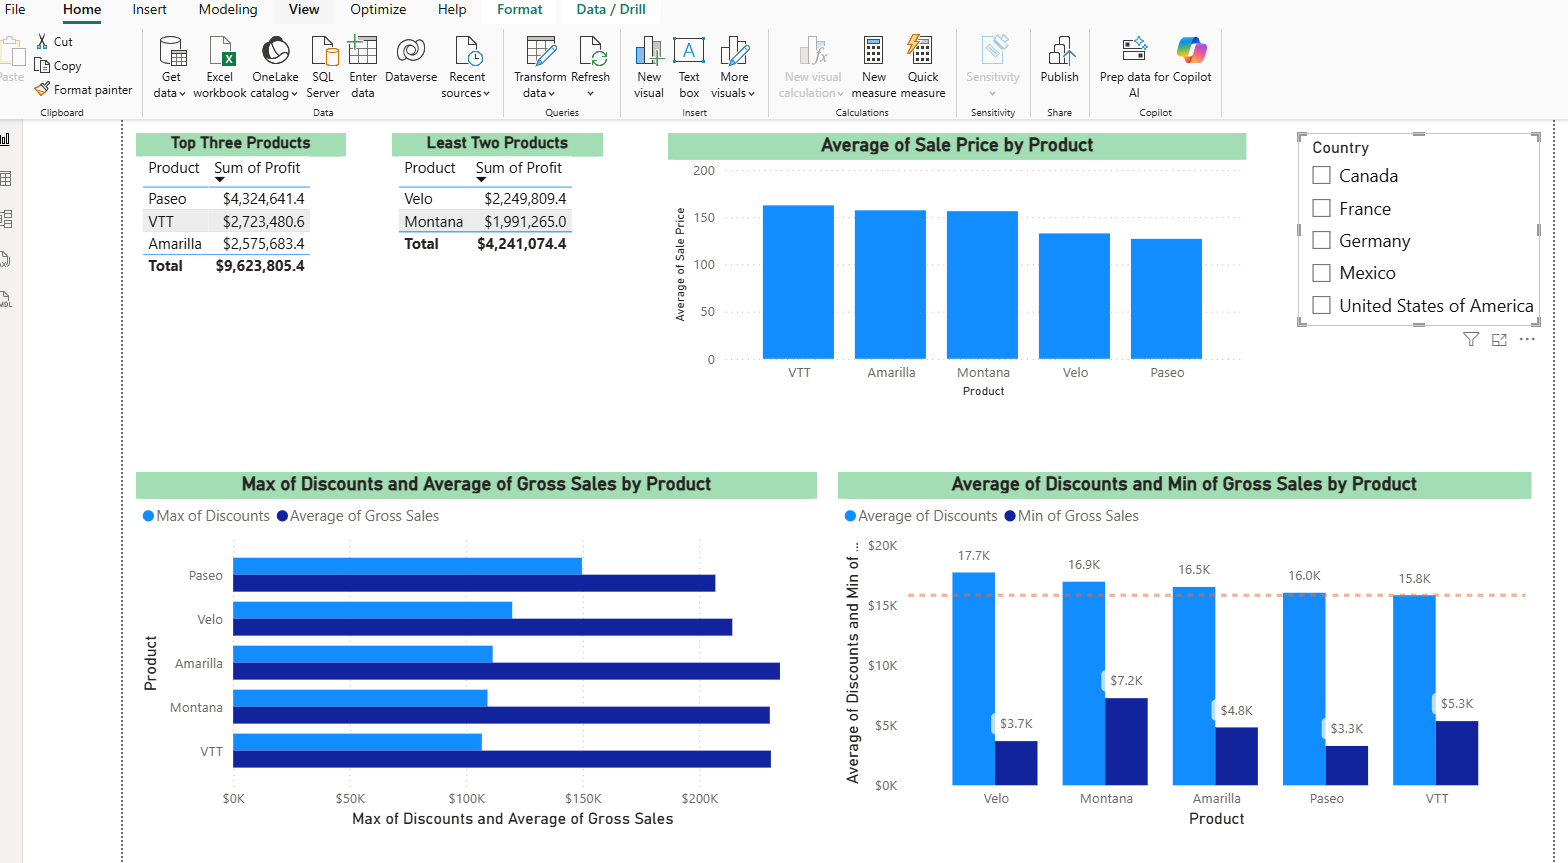

What the dashboard file says about the page in this screenshot:
{"tool":"powerbi","page":{"name":"Product Performance","canvas":[1280,720],"ordinal":1},"visuals":[{"type":"tableEx","title":"Top Three Products","fields":{"Values":["financials.Product","Sum(financials.Profit)"]},"box":[11.7,12.6,187.7,139.1],"z":0},{"type":"tableEx","title":"Least Two Products","fields":{"Values":["financials.Product","Sum(financials.Profit)"]},"box":[241.2,12.6,188.7,139.1],"z":1000},{"type":"clusteredColumnChart","fields":{"Category":["financials.Product"],"Y":["Avg(financials.Sale Price)"]},"box":[488.3,12.6,518.4,241.2],"z":2000},{"type":"clusteredBarChart","fields":{"Y":["Max(financials.Discounts)","Avg(financials.Gross Sales)"],"Category":["financials.Product"]},"box":[11.7,316.1,609.8,323.9],"z":3000},{"type":"slicer","fields":{"Values":["financials.Country"]},"box":[1052.4,12.6,216.9,173.1],"z":4000},{"type":"lineClusteredColumnComboChart","fields":{"Category":["financials.Product"],"Y":["Avg(financials.Discounts)","Min(financials.Gross Sales)"]},"box":[640,316.1,620.5,323.9],"z":5000}]}

Visuals, with their boxes on the page's 1280x720 design canvas (x1, y1, x2, y2). These are canvas units, not pixel positions in the 1568x863 screenshot, which may show the page scaled, cropped or inside an application window:
"Top Three Products" tableEx: bbox=(12, 13, 199, 152)
"Least Two Products" tableEx: bbox=(241, 13, 430, 152)
clusteredColumnChart - financials.Product x Avg(financials.Sale Price): bbox=(488, 13, 1007, 254)
clusteredBarChart - Max(financials.Discounts) x Avg(financials.Gross Sales): bbox=(12, 316, 622, 640)
slicer - financials.Country: bbox=(1052, 13, 1269, 186)
lineClusteredColumnComboChart - financials.Product x Avg(financials.Discounts): bbox=(640, 316, 1260, 640)
